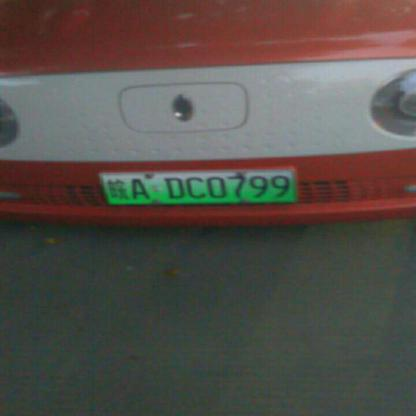lp: (99, 171, 298, 202)
